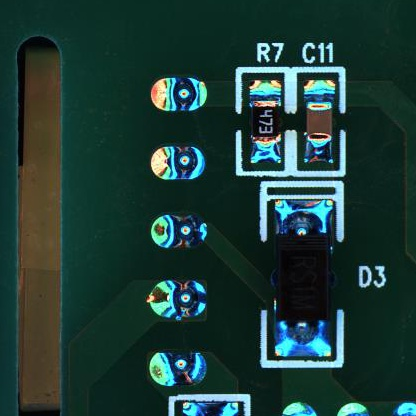spot: (147, 278, 208, 321), (147, 350, 207, 387), (149, 145, 205, 180), (150, 77, 207, 111), (151, 215, 208, 248)
